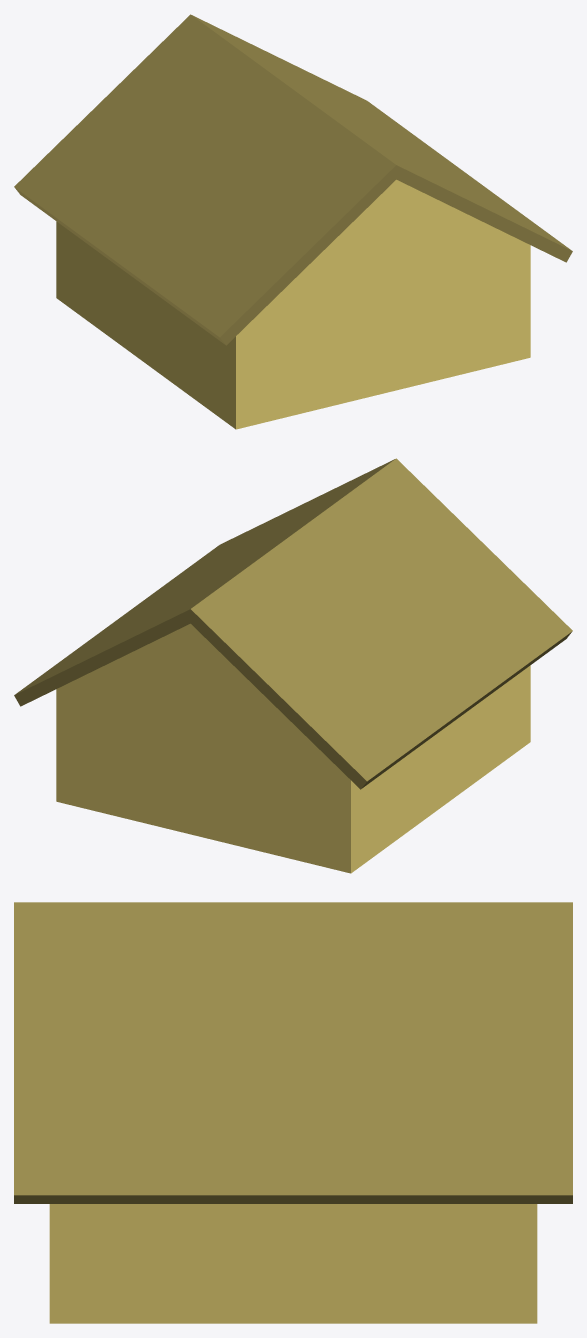
File: result.glb
3 renders of one model, top to bottom at view 1: azimuth 30°, elevation 25°; view 2: azimuth 150°, elevation 25°; view 3: azimuth 270°, elevation 25°, orthographic. The views are drawn at different scales.
Visible parts, largest first — view 1: c3e53eda-5b57-47dd-8e76-724460d654f6__undefined (×2), f859a263-fc52-454e-80c0-d2f02da587b2__undefined; view 2: c3e53eda-5b57-47dd-8e76-724460d654f6__undefined (×2), f859a263-fc52-454e-80c0-d2f02da587b2__undefined; view 3: c3e53eda-5b57-47dd-8e76-724460d654f6__undefined, f859a263-fc52-454e-80c0-d2f02da587b2__undefined.
Part boxes in pixels (<box>): c3e53eda-5b57-47dd-8e76-724460d654f6__undefined (×2): <box>14,14,572,345</box>; f859a263-fc52-454e-80c0-d2f02da587b2__undefined: <box>56,179,530,429</box>; c3e53eda-5b57-47dd-8e76-724460d654f6__undefined (×2): <box>14,458,572,789</box>; f859a263-fc52-454e-80c0-d2f02da587b2__undefined: <box>56,623,530,873</box>; c3e53eda-5b57-47dd-8e76-724460d654f6__undefined: <box>14,902,572,1203</box>; f859a263-fc52-454e-80c0-d2f02da587b2__undefined: <box>49,1204,537,1323</box>.
Bounding box in the file's own units: 776 × 500 × 783.
